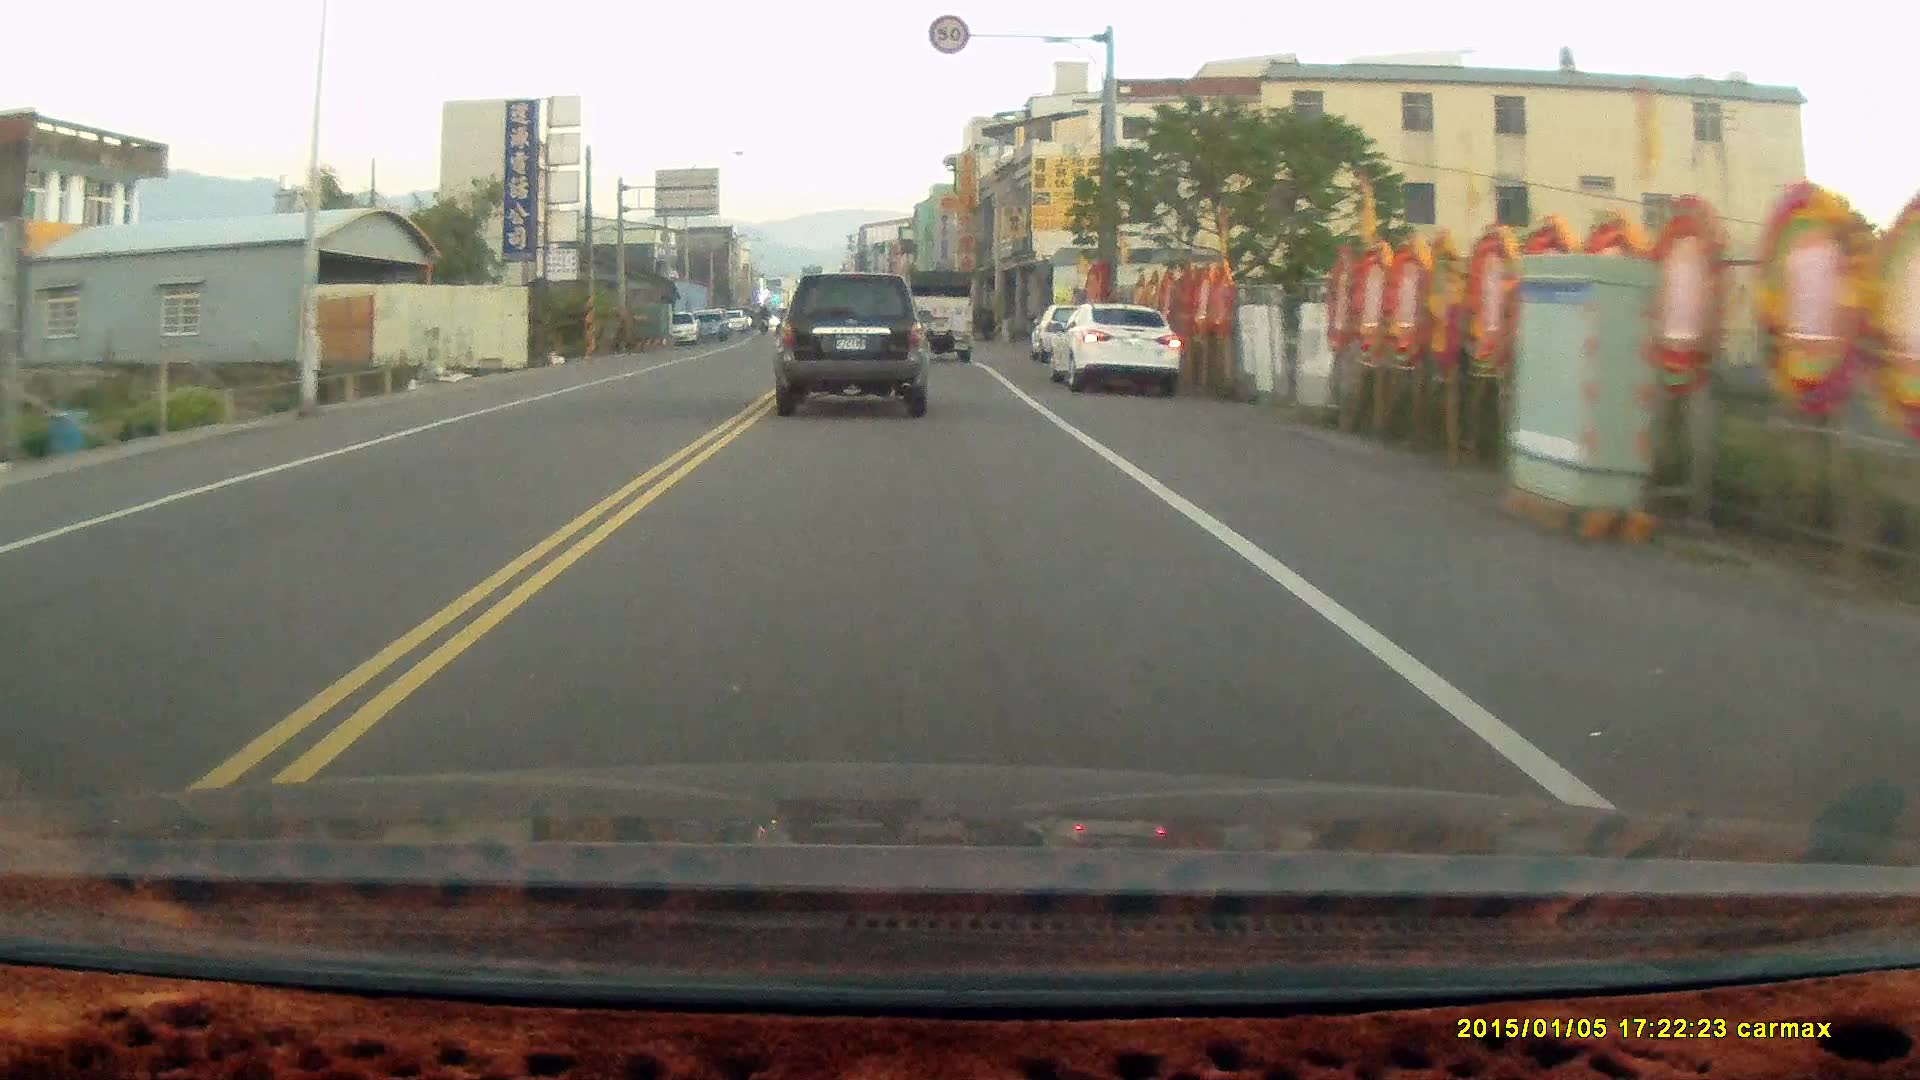vehicle: (773, 262, 935, 411), (1054, 302, 1180, 393), (903, 265, 981, 363)
